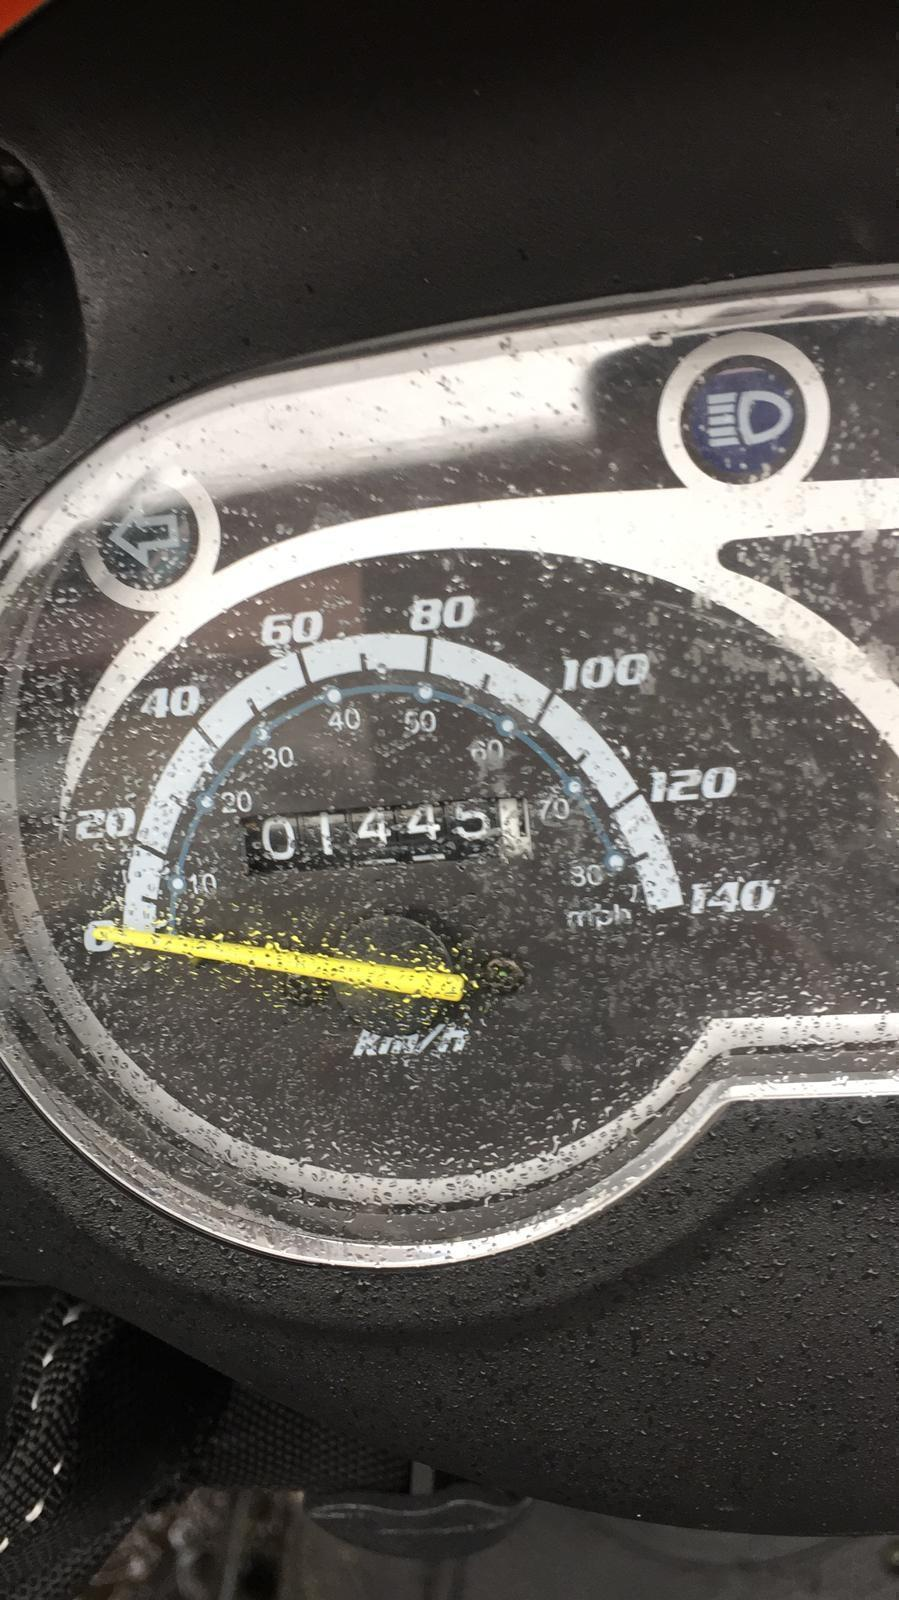0: (260, 815, 295, 862), (238, 789, 253, 812)
1: (317, 810, 334, 856), (515, 796, 528, 838)
4: (355, 804, 392, 845), (406, 800, 441, 841)
5: (454, 795, 490, 840)
odometer: (237, 793, 539, 882)
